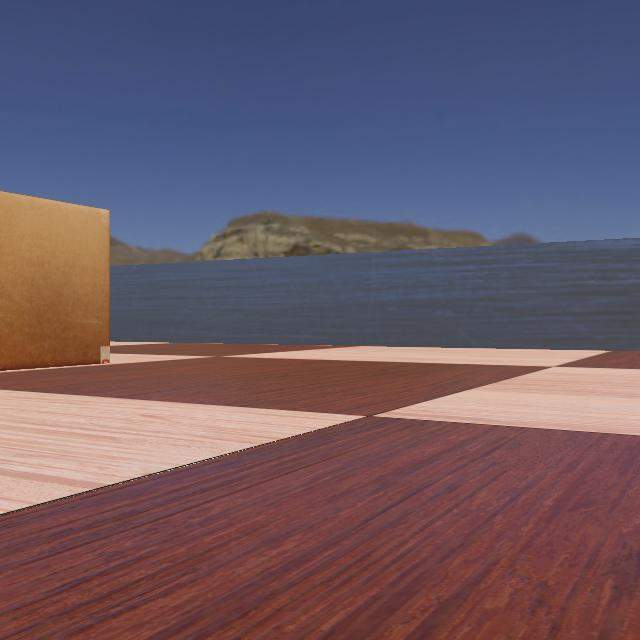cardboard-box: (0, 182, 130, 374)
